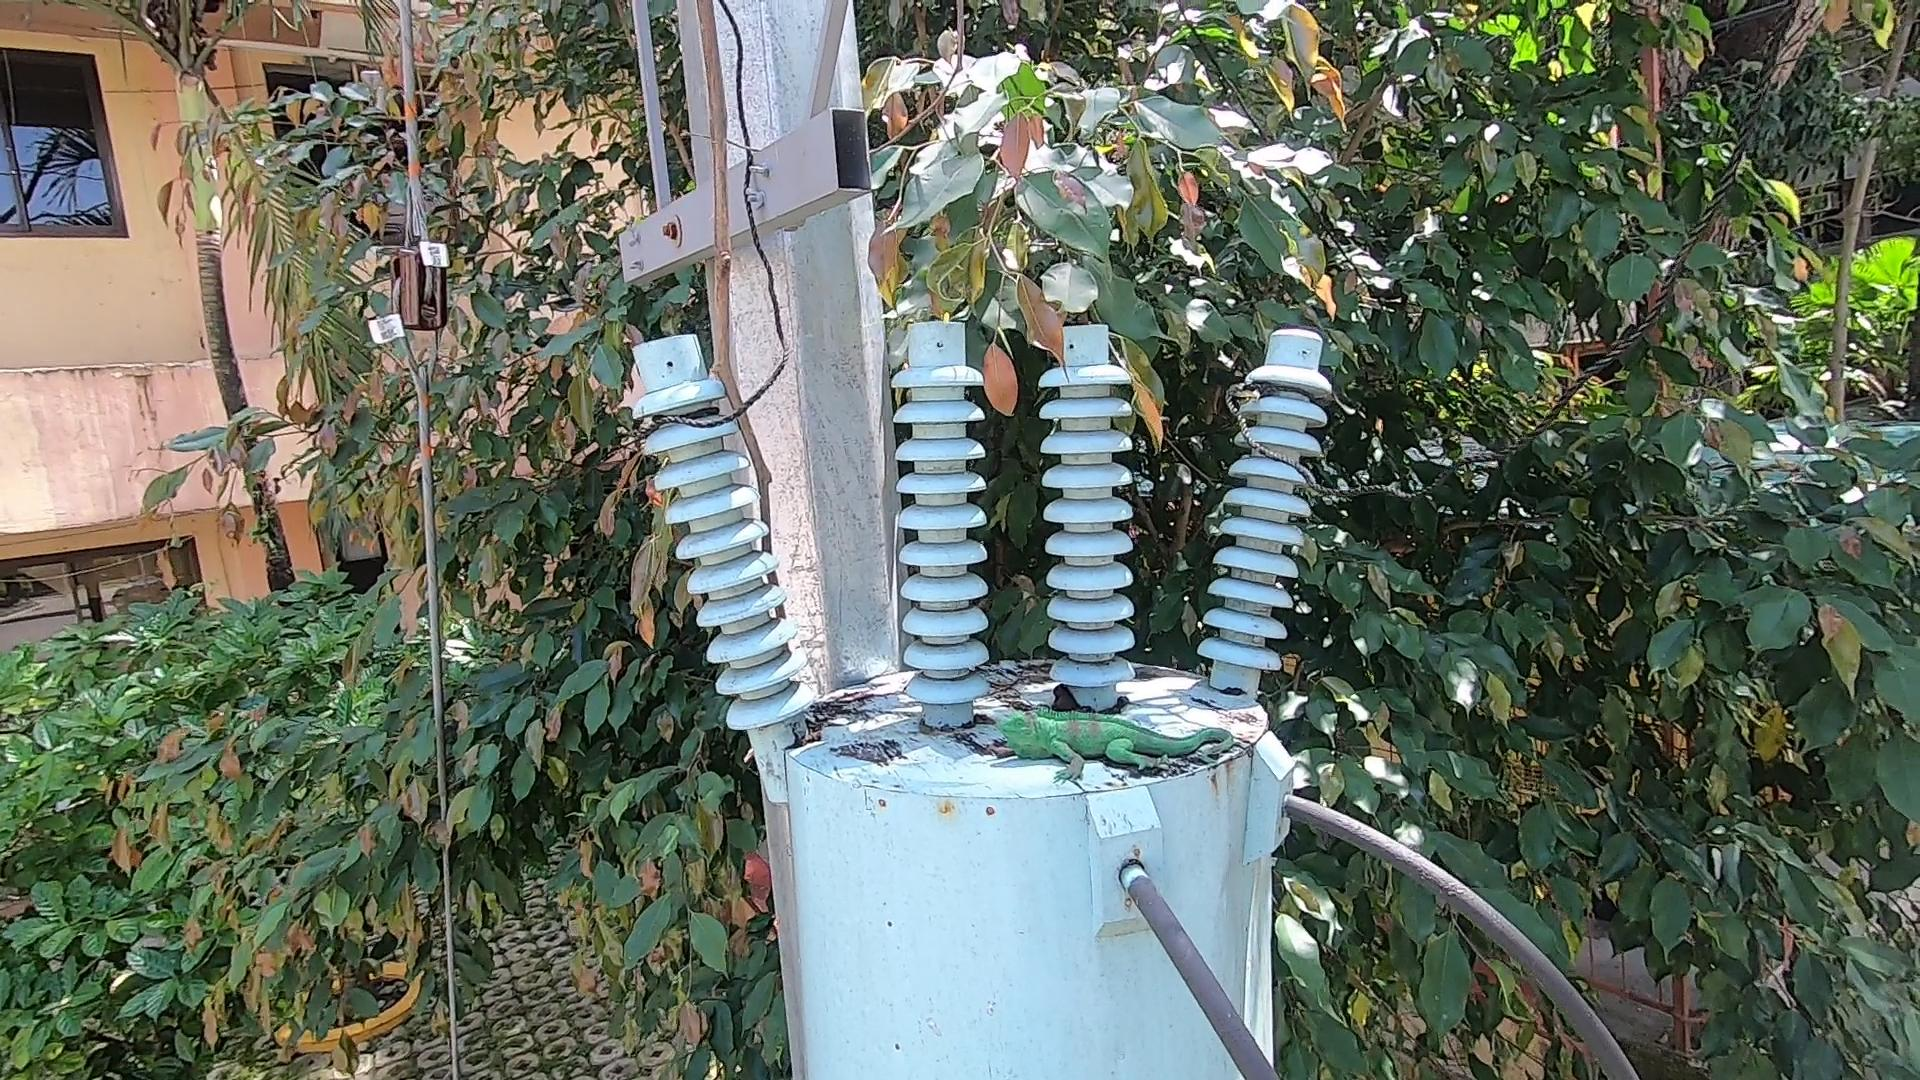branch with leaves: (651, 5, 818, 709), (956, 228, 1207, 446)
leaf: (783, 721, 831, 760), (1044, 684, 1083, 717)
